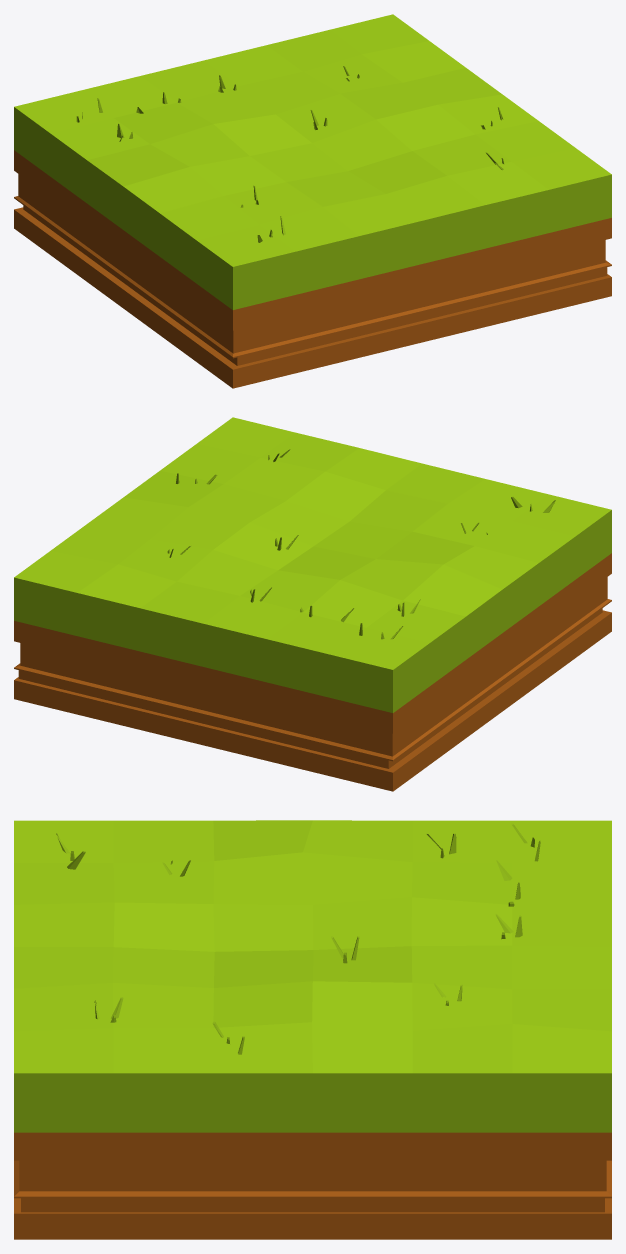
Rendered from Gator Siege_landgreen1.fbx.
3 renders of one model, top to bottom at view 1: azimuth 30°, elevation 25°; view 2: azimuth 150°, elevation 25°; view 3: azimuth 270°, elevation 25°, orthographic. The views are drawn at different scales.
Visible parts, largest first — view 1: land_green1; view 2: land_green1; view 3: land_green1.
Part boxes in pixels (x1,y1,x2,y2): land_green1: [14, 14, 611, 388]; land_green1: [14, 417, 611, 791]; land_green1: [14, 820, 611, 1239].
Size of the model in its own units: 0.3449 by 0.345 by 0.1188.
